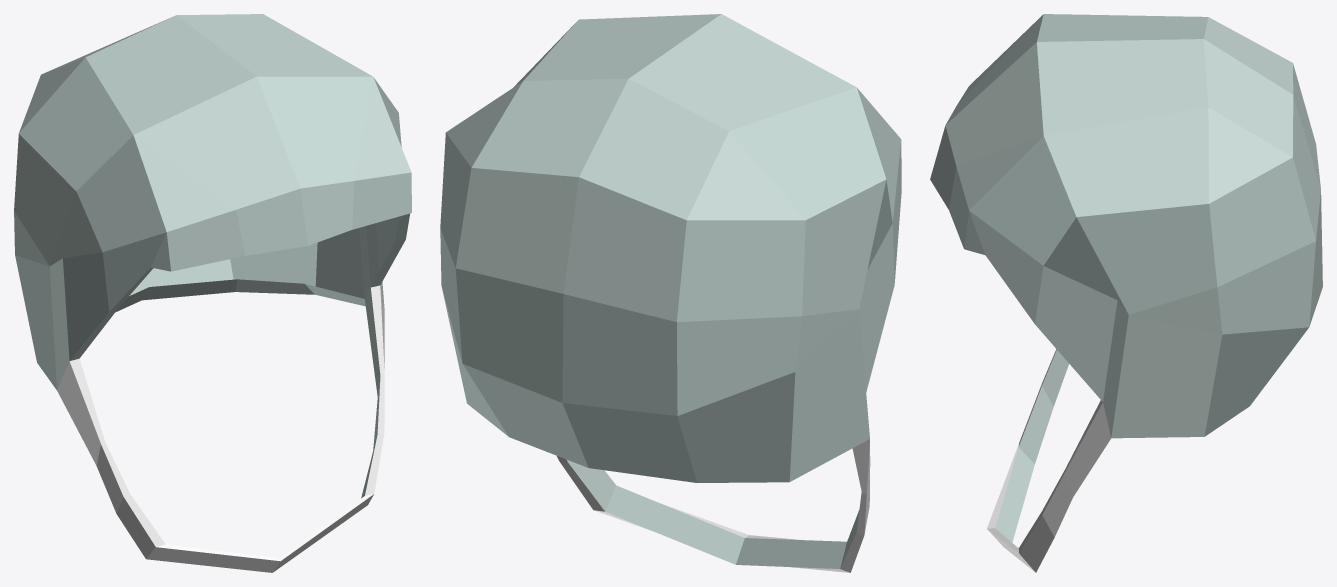
Rendered from Snowboarder_1_Helmet.fbx.
3 views of the same model, side by side, from view 1: azimuth 30°, elevation 25°; view 2: azimuth 150°, elevation 25°; view 3: azimuth 270°, elevation 25° (orthographic). The views are drawn at different scales.
Visible parts, largest first — view 1: Snowboarder_1_Helmet; view 2: Snowboarder_1_Helmet; view 3: Snowboarder_1_Helmet.
Boxes of the visible parts, bbox=[...] form: Snowboarder_1_Helmet: bbox=[14, 14, 411, 572]; Snowboarder_1_Helmet: bbox=[440, 14, 901, 572]; Snowboarder_1_Helmet: bbox=[930, 14, 1322, 572].
Bounding box in the file's own units: 22.4 × 31.86 × 22.33.
